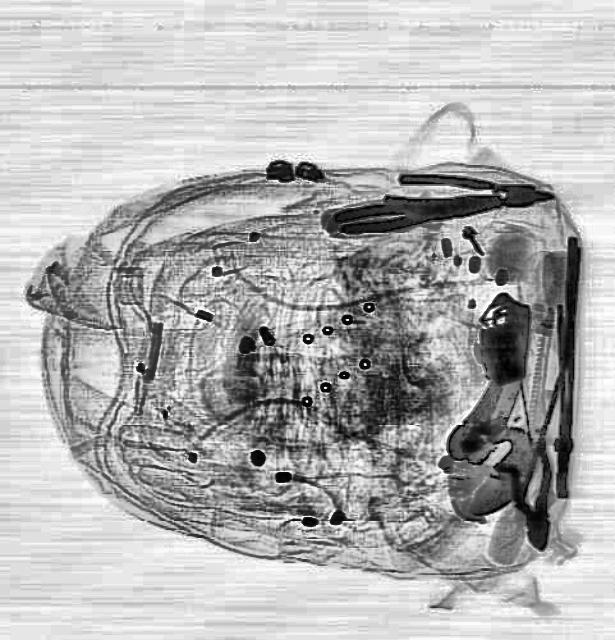Pliers: (332, 180, 504, 240), (489, 438, 569, 556)
